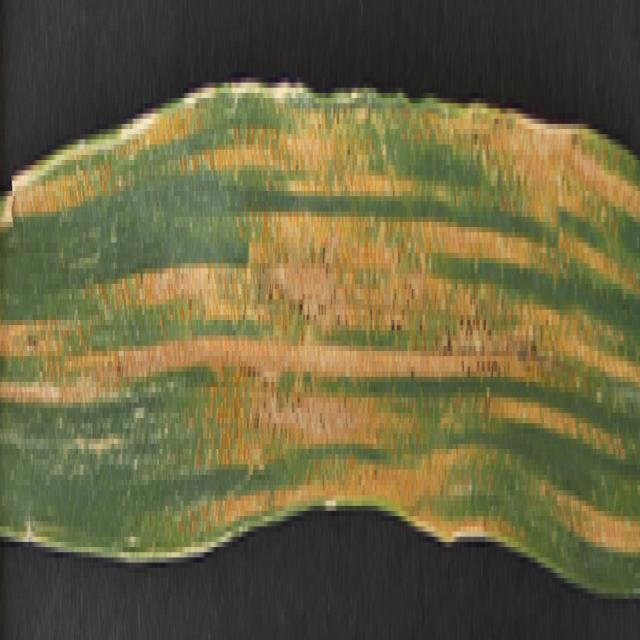leaf rust: (1, 82, 640, 588)
